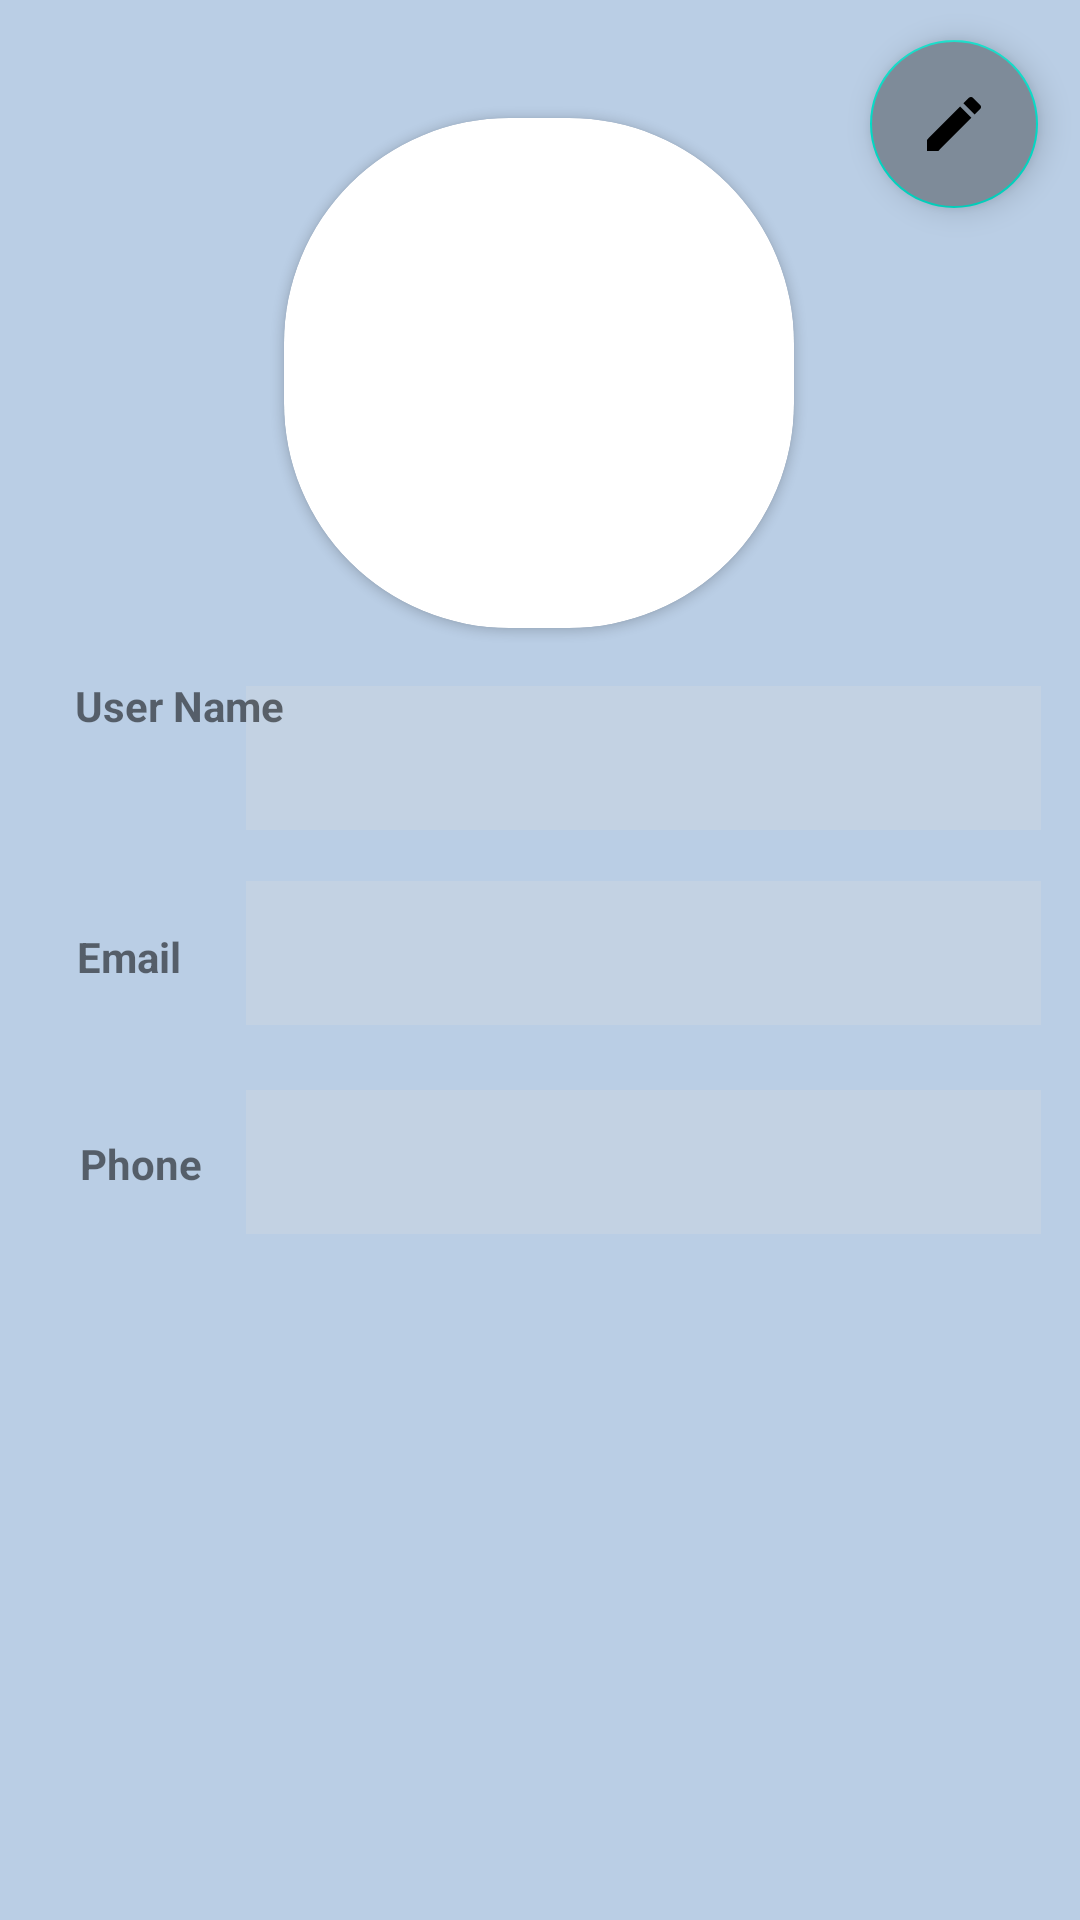

Icon bounding boxes for this 1080 × 1920 phone screenshot, format box(x1, y1, x2, y2):
edit: box(870, 40, 1038, 208)
